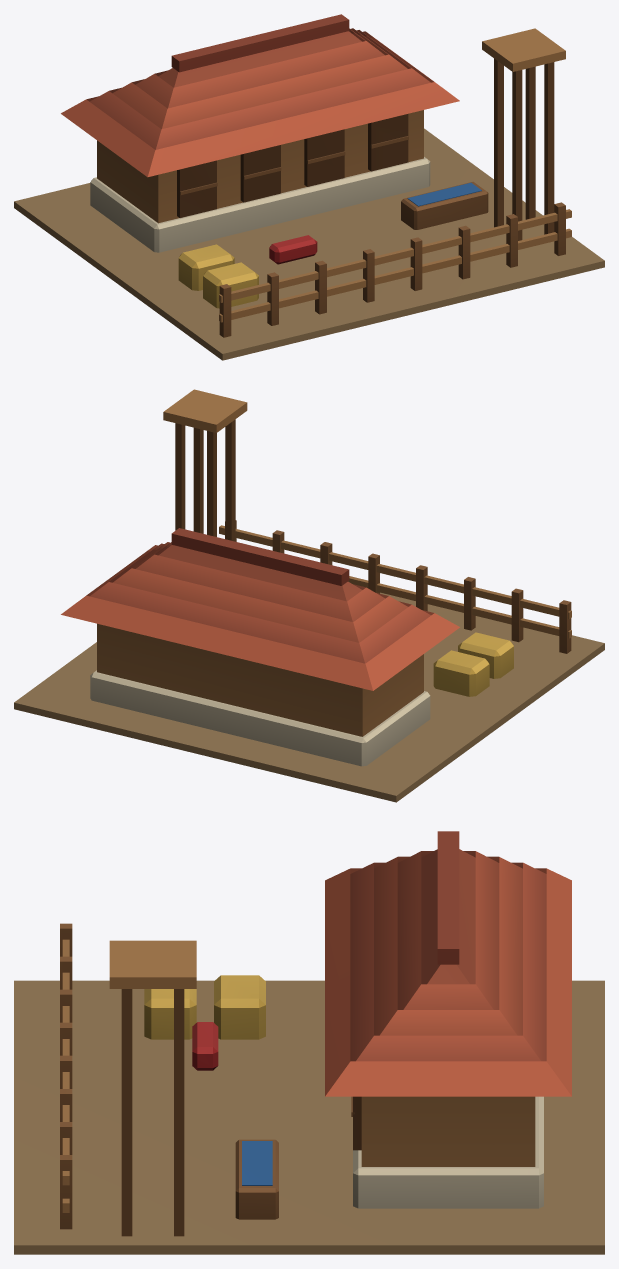
The model's file is b_cavalry.glb.
3 views of the same model, one above another, from view 1: azimuth 30°, elevation 25°; view 2: azimuth 150°, elevation 25°; view 3: azimuth 270°, elevation 25° (orthographic). The views are drawn at different scales.
Parts seen in each view (by area): view 1: b_cavalry, L3, L2; view 2: b_cavalry, L3, L2; view 3: b_cavalry, L3, L2.
Boxes of the visible parts, x1,y1,x2,y2 form: b_cavalry: (14,14,604,360); L3: (482,28,565,240); L2: (203,235,317,308); b_cavalry: (14,520,604,802); L3: (163,389,247,541); L2: (458,632,513,678); b_cavalry: (14,831,604,1254); L3: (109,940,196,1236); L2: (144,989,218,1070).
Bounding box in the file's own units: 0.72 × 0.3475 × 0.68.
